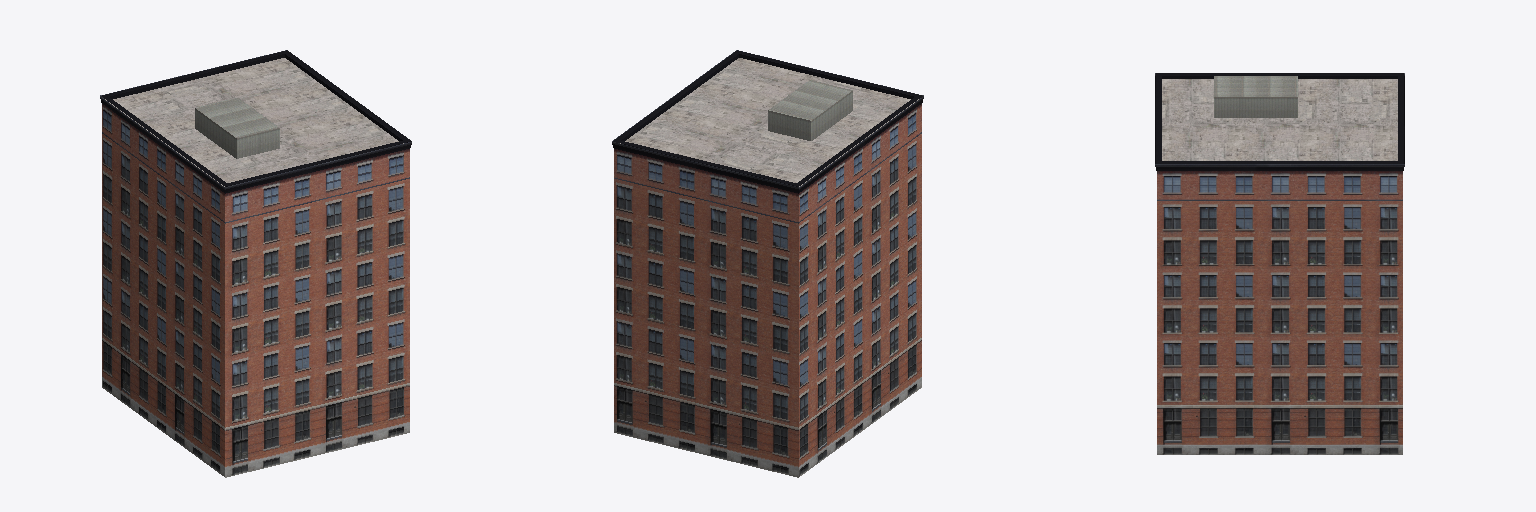
The picture shows the model from 3 angles: view 1: azimuth 30°, elevation 25°; view 2: azimuth 150°, elevation 25°; view 3: azimuth 270°, elevation 25°; orthographic projection.
Parts seen in each view (by area): view 1: building_45; view 2: building_45; view 3: building_45.
Part boxes in pixels (left/top/right/bottom): building_45: left=100, top=50, right=411, bottom=477; building_45: left=612, top=50, right=923, bottom=477; building_45: left=1155, top=73, right=1404, bottom=454.
Size of the model in its own units: 59.05 by 92.87 by 68.2.
1 materials, 1 textured.